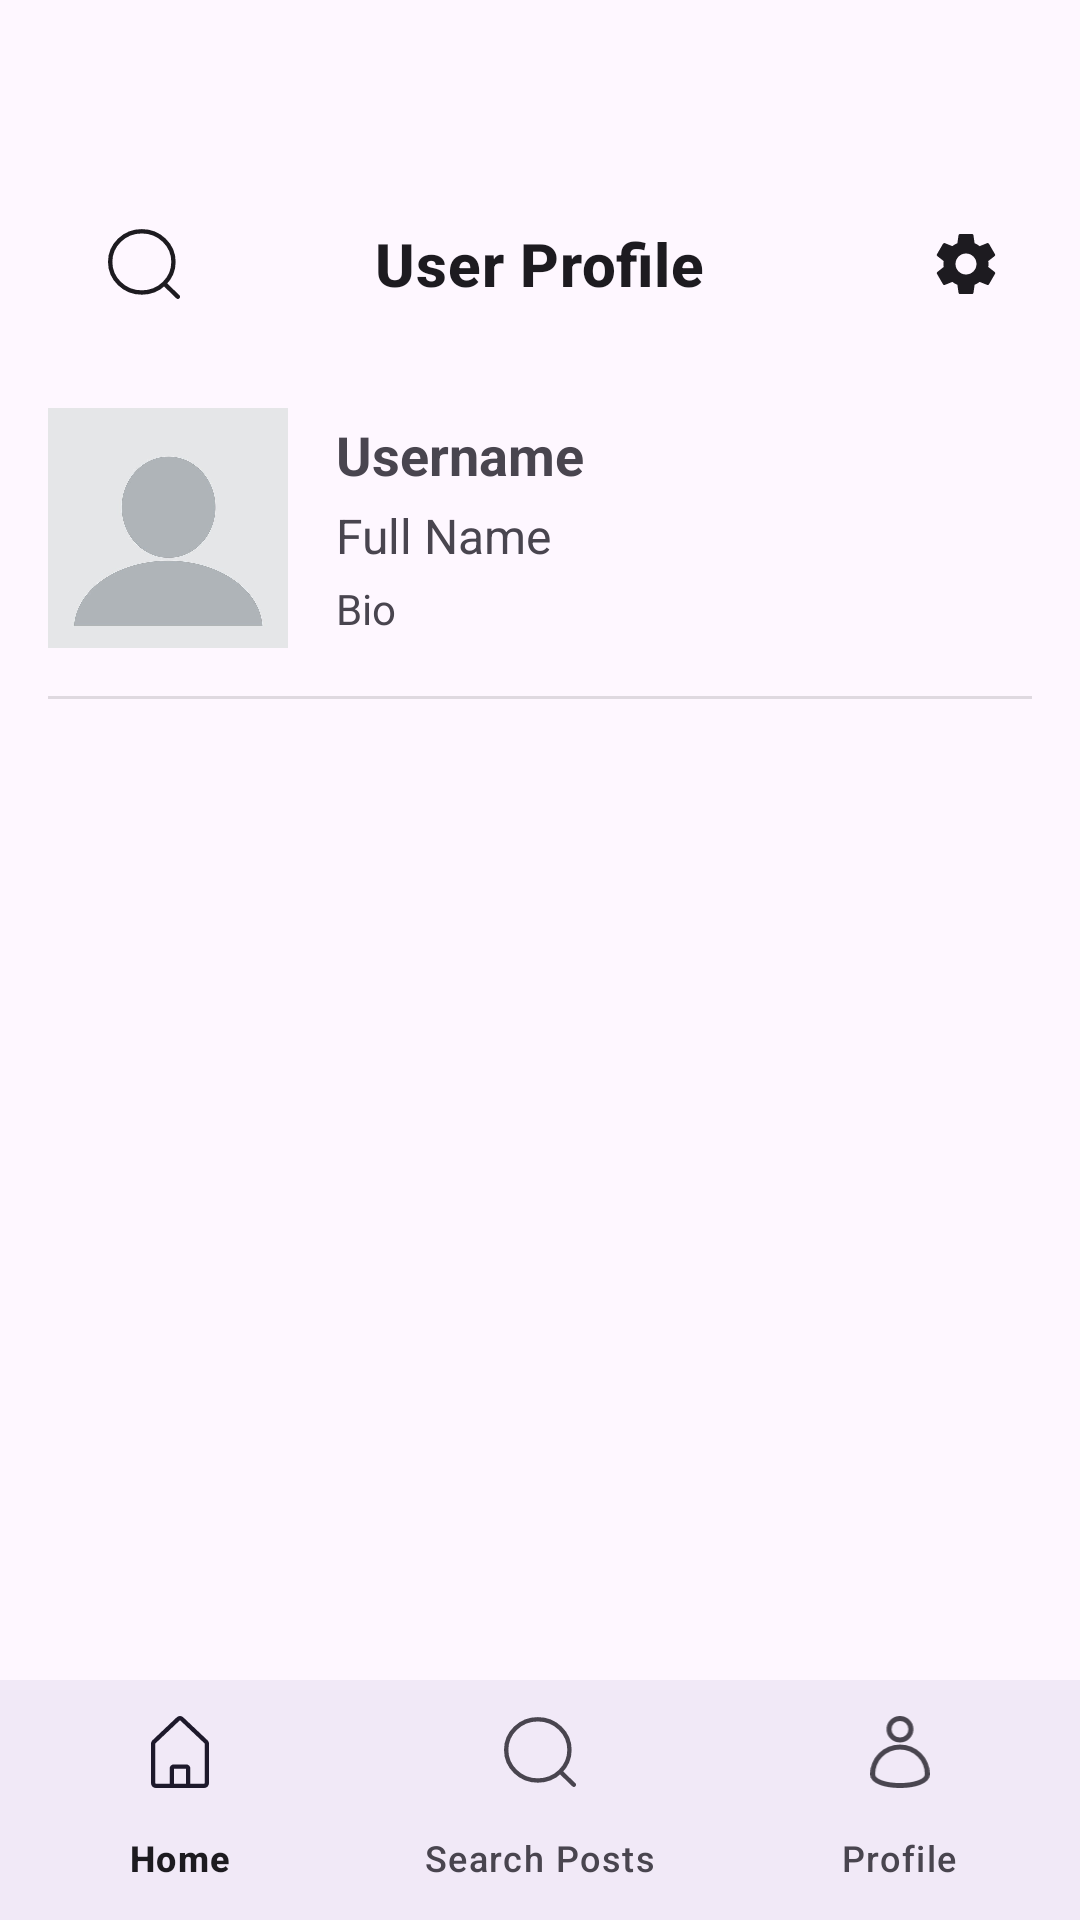

Screen size 1080 × 1920. Icon name, then its center in pixels as (x=x, y=y):
search: (x=144, y=264)
Settings Button: (x=966, y=264)
